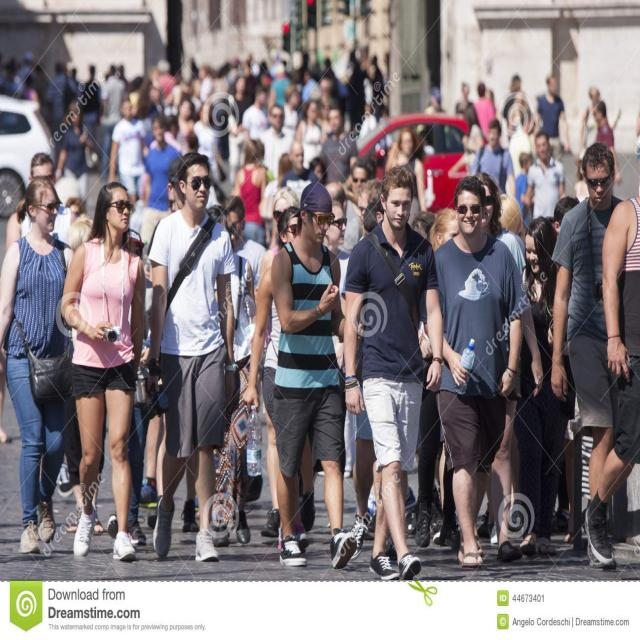body: (341, 164, 446, 582), (146, 150, 238, 564), (268, 178, 361, 572), (549, 138, 630, 572), (59, 180, 148, 561), (0, 172, 79, 556), (140, 154, 218, 536), (468, 170, 544, 562), (240, 203, 322, 542), (472, 171, 535, 562), (513, 214, 575, 559), (582, 197, 639, 570), (414, 206, 464, 551), (57, 212, 108, 536), (254, 185, 302, 514), (106, 227, 150, 546), (314, 198, 358, 482), (220, 193, 266, 381), (3, 149, 80, 256), (137, 55, 274, 103), (140, 115, 182, 248), (318, 48, 388, 123), (106, 94, 150, 208), (339, 201, 380, 320), (384, 126, 428, 230), (54, 99, 96, 206), (231, 137, 271, 249), (470, 117, 517, 201), (524, 131, 566, 222), (97, 62, 128, 177), (256, 103, 296, 183), (535, 74, 570, 164), (320, 104, 358, 186), (294, 99, 328, 183), (592, 100, 624, 187), (46, 63, 78, 150), (0, 44, 45, 105), (279, 138, 321, 202), (192, 98, 222, 185), (273, 46, 318, 99), (502, 73, 534, 136), (421, 93, 443, 178), (544, 134, 566, 218), (241, 86, 272, 144), (579, 84, 602, 160), (514, 150, 535, 229), (356, 178, 384, 237), (472, 81, 497, 144), (548, 484, 572, 542), (175, 97, 198, 156), (81, 64, 103, 124), (498, 190, 526, 234), (456, 81, 480, 132), (552, 194, 580, 232), (351, 151, 376, 185), (478, 501, 497, 543), (573, 159, 590, 203), (63, 194, 87, 225), (414, 209, 435, 238), (326, 179, 346, 199), (165, 113, 179, 138), (208, 202, 225, 222), (310, 158, 326, 178), (116, 60, 130, 82), (275, 150, 289, 170), (635, 96, 640, 134), (486, 84, 495, 101)
